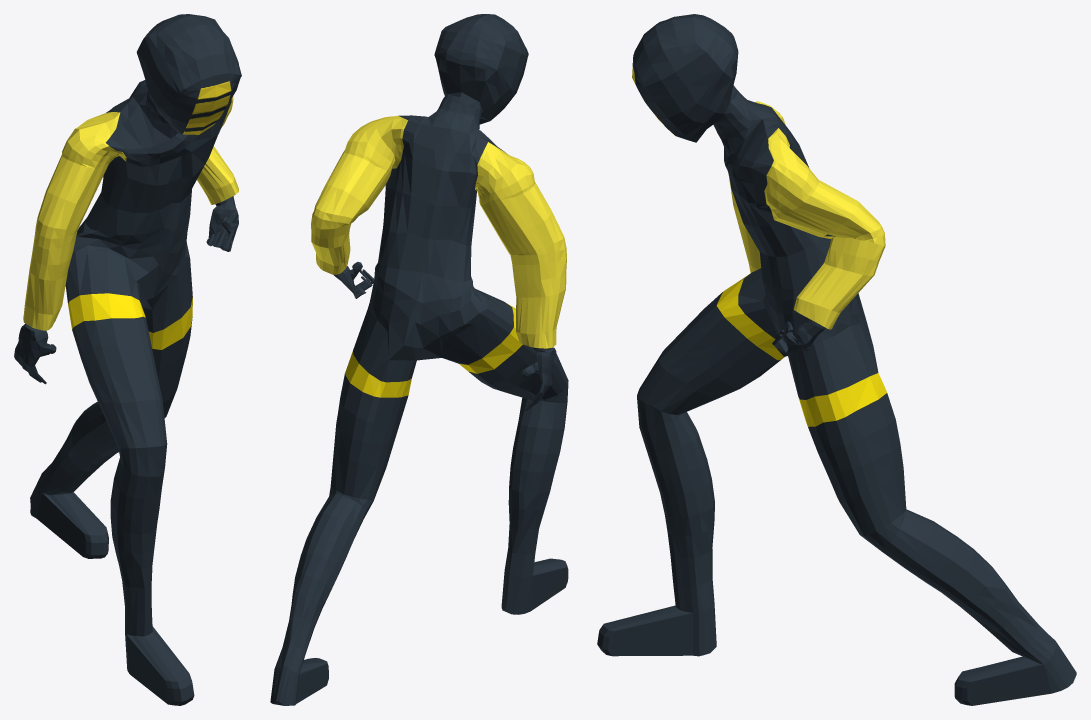
The model's file is Sentry_Stun_000023.obj.
The picture shows the model from 3 angles, left to right: view 1: azimuth 30°, elevation 25°; view 2: azimuth 150°, elevation 25°; view 3: azimuth 270°, elevation 25°; orthographic projection. The views are drawn at different scales.
Parts seen in each view (by area): view 1: Cube; view 2: Cube; view 3: Cube.
Part boxes in pixels (x1,y1,x2,y2): Cube: (14,14,241,705); Cube: (270,14,568,705); Cube: (597,14,1076,705).
Bounding box in the file's own units: 1.31 × 3.39 × 2.23.
